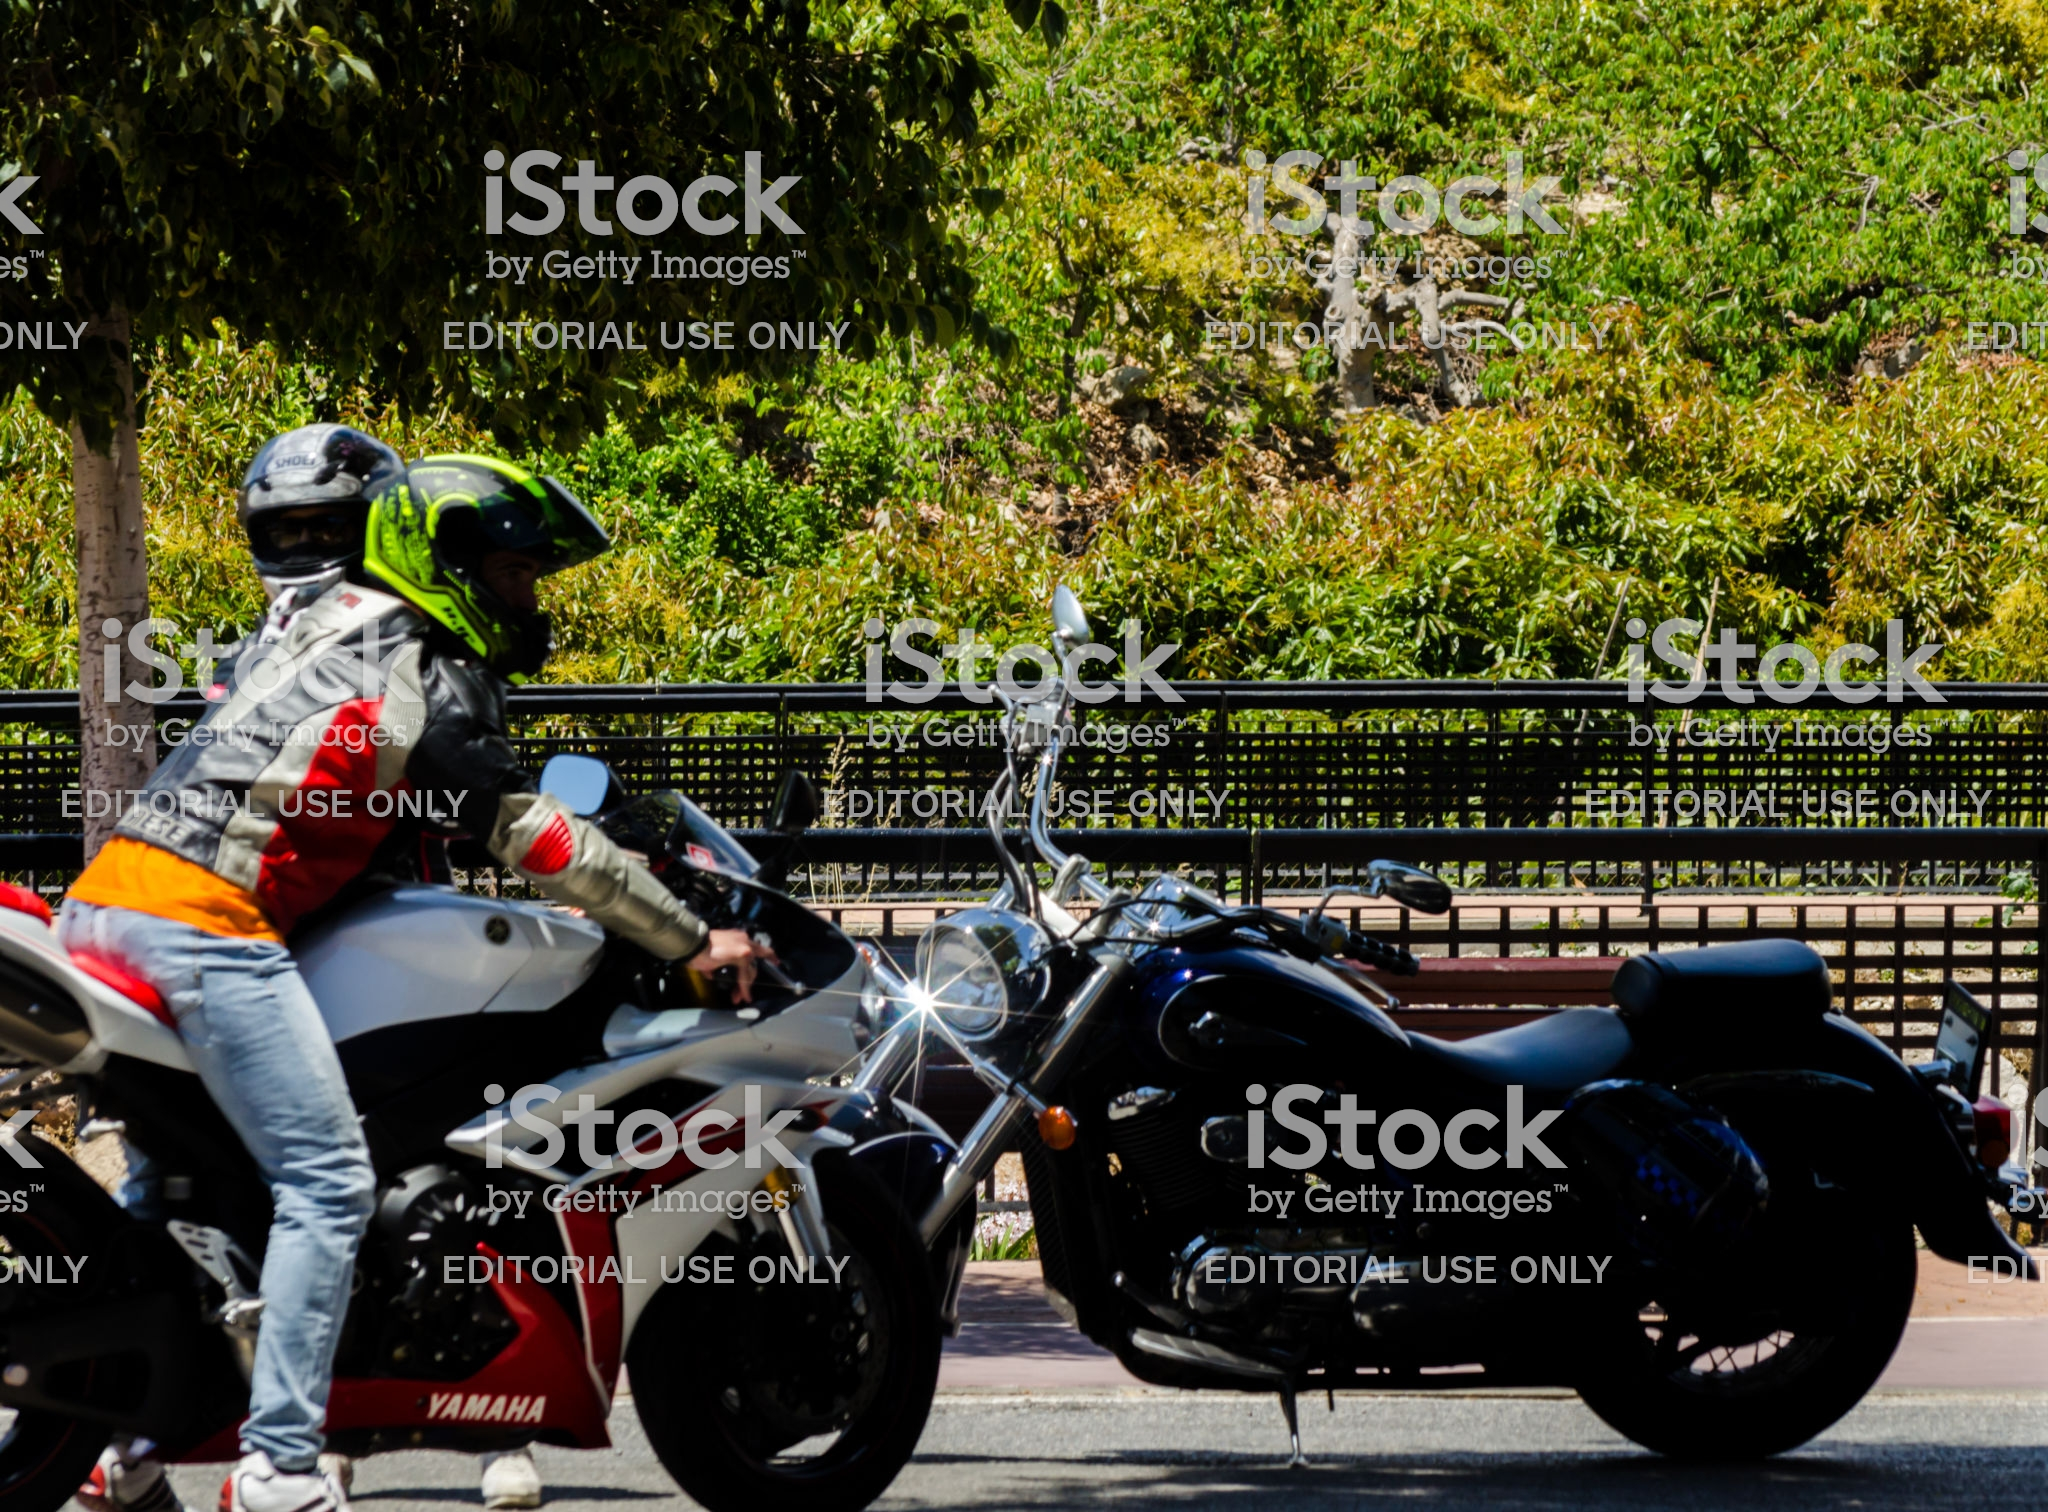helmet: (363, 445, 588, 646), (234, 439, 412, 625)
